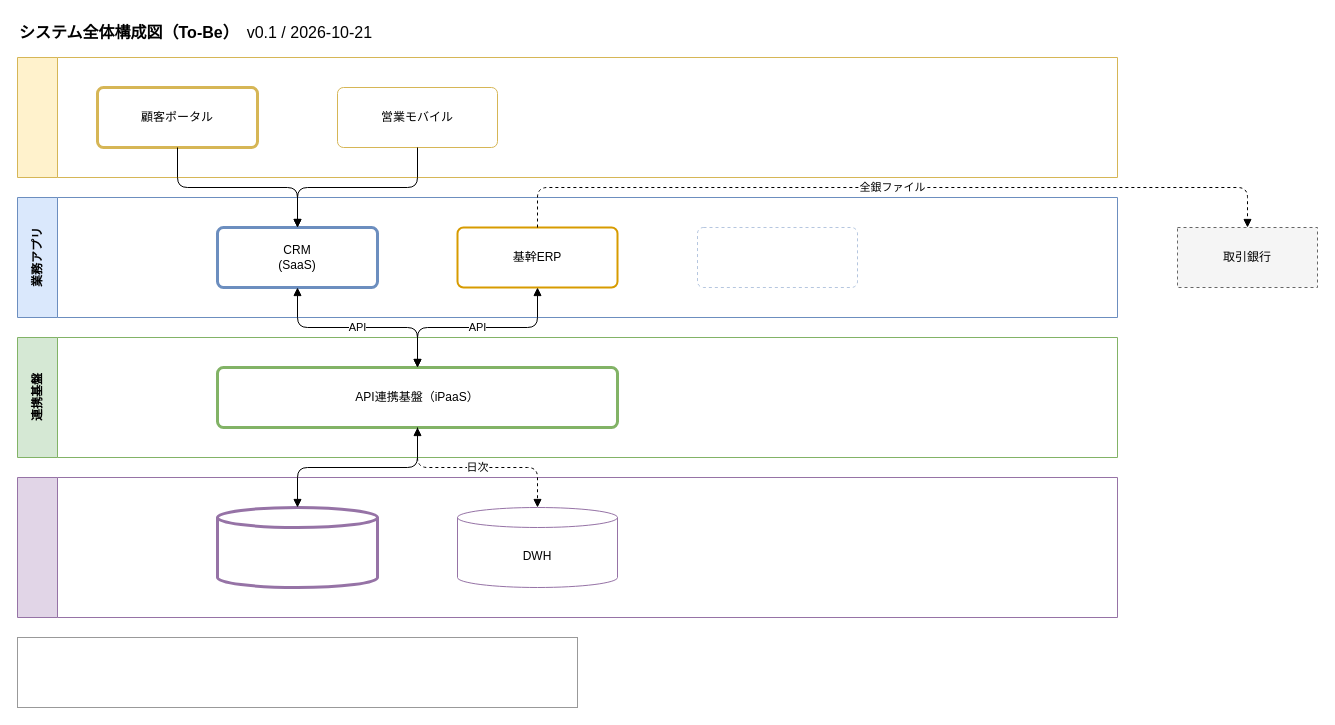
Image size: 1335x725. Some labels were removed from this diagram. Each missing label, with the box of its shape:
チャネル: (16, 56, 1118, 178)
データ基盤: (16, 476, 1118, 618)
凡例 太枠＝新規 オレンジ枠＝改修 点線・半透明＝廃止 実線矢印＝API（同期） 点線矢印＝ファイル・バッチ（非同期）: (16, 636, 578, 708)
旧販売管理: (696, 226, 858, 288)
顧客マスタ (MDM): (216, 506, 378, 588)
